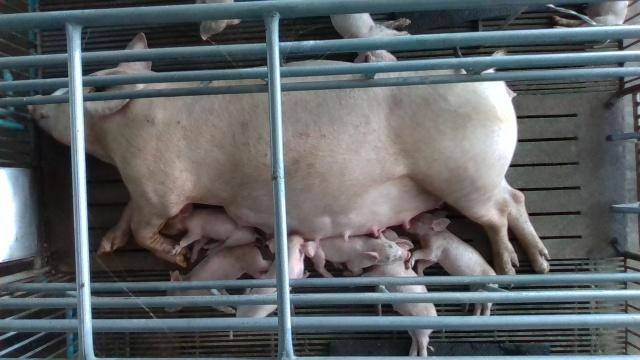piglet: (405, 210, 499, 316), (362, 229, 437, 356), (163, 243, 272, 314), (235, 233, 318, 319), (160, 202, 265, 263), (309, 231, 411, 277), (332, 12, 415, 60), (553, 0, 628, 48), (194, 0, 242, 42)
sow-sleep-lactate: (25, 32, 551, 288)
